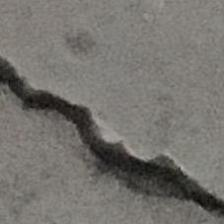Crack: (0, 10, 224, 224)
